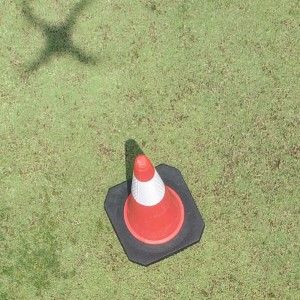traffic cone: (103, 153, 204, 265)
